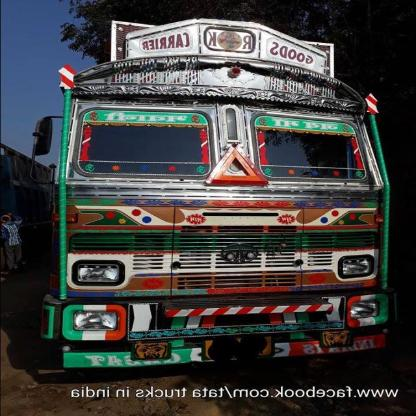truck: (46, 26, 398, 378)
